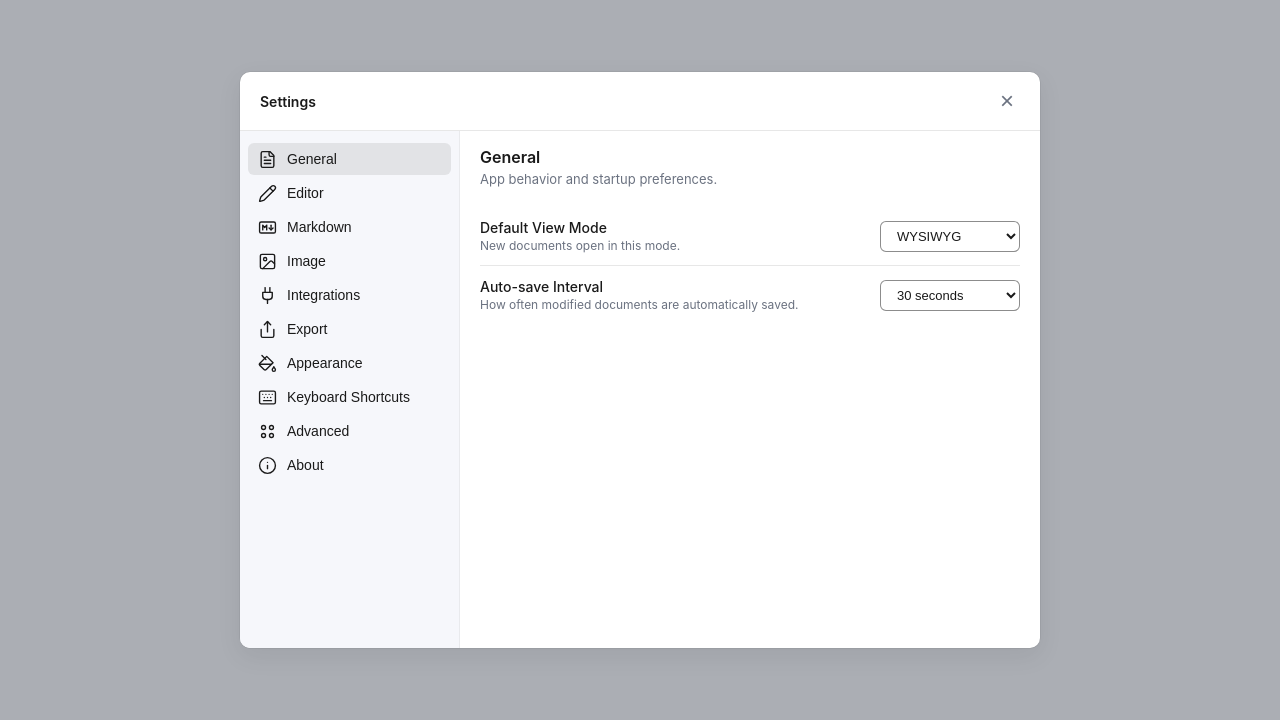
Test: WI-6 McpServerStatus › UI-06 the status region carries no path and no binary path
Click the button "Integrations".
click(350, 295)  # box 248,279 -> 451,311
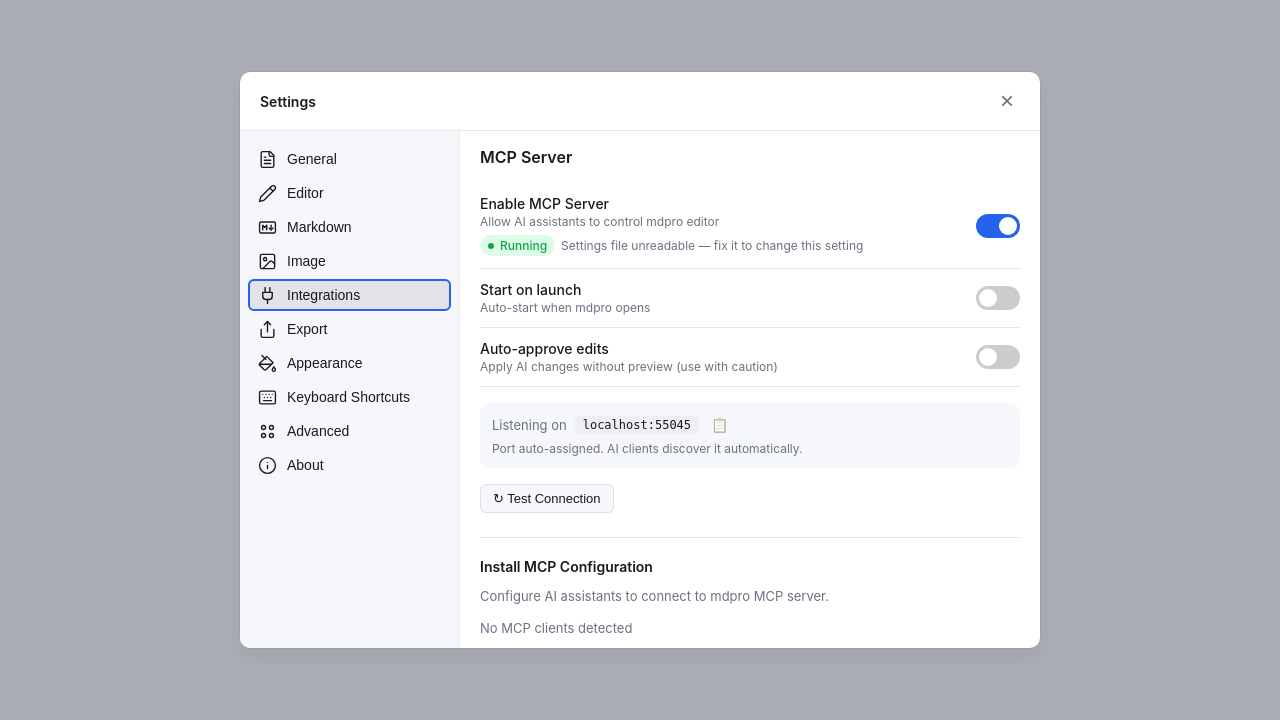
Expected: the switch labelled "Enable MCP Server" is shown, 976,214 -> 1020,238
Expected: the message "Running Settings file unreadable — fix it to change this setting" is shown, 480,235 -> 863,256
